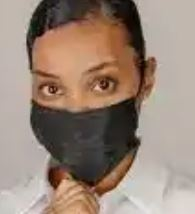with_facemask: (26, 91, 136, 182)
